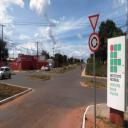Rotatoria: (88, 33, 100, 52)
preferencia: (88, 14, 100, 33)
